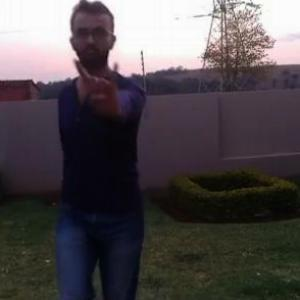takeoff-hand: (69, 49, 128, 112)
